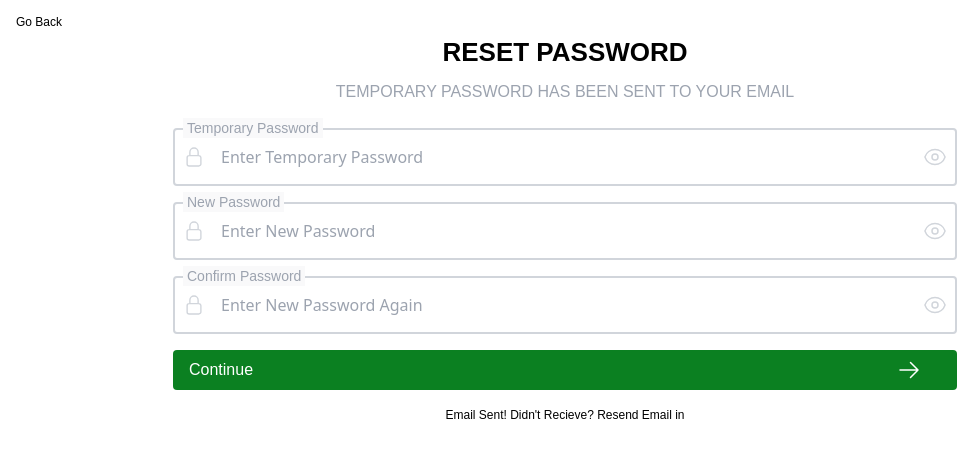
Test: ResetPassword Component › shows error for weak new password
Type "TempPass123!" into the password field with placeholder "Enter Temporary Password" at (564, 157), box x1=213 y1=138 x2=915 y2=176
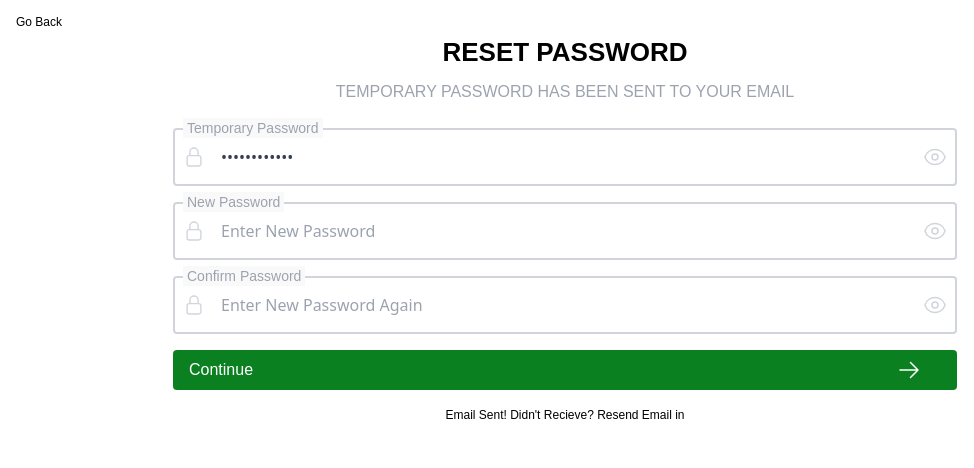
Type "weak" into the password field with placeholder "Enter New Password" at (564, 231), box x1=213 y1=212 x2=915 y2=250
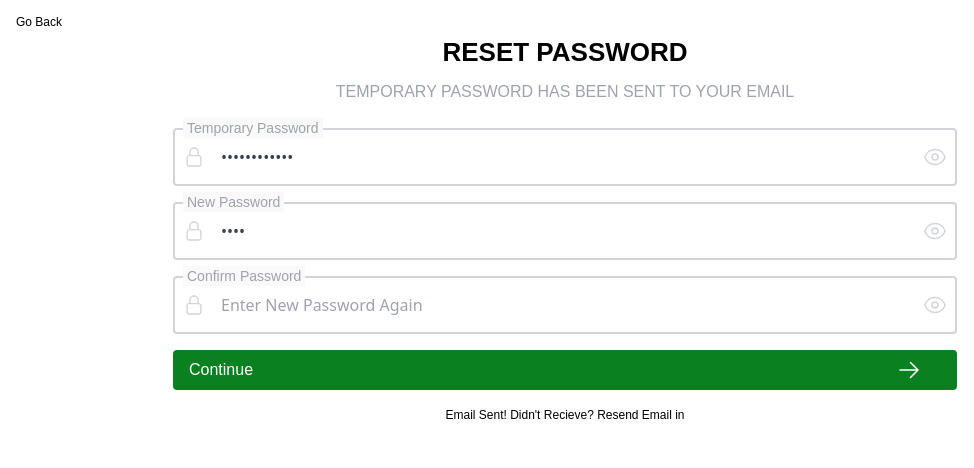
Type "weak" into the password field with placeholder "Enter New Password Again" at (564, 305), box x1=213 y1=286 x2=915 y2=324
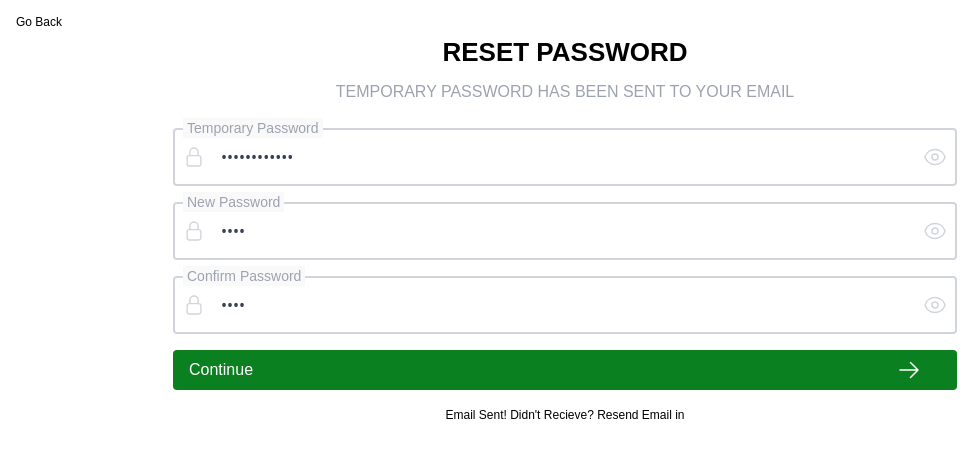
Click the button "Continue" at (221, 370), box x1=173 y1=350 x2=957 y2=390
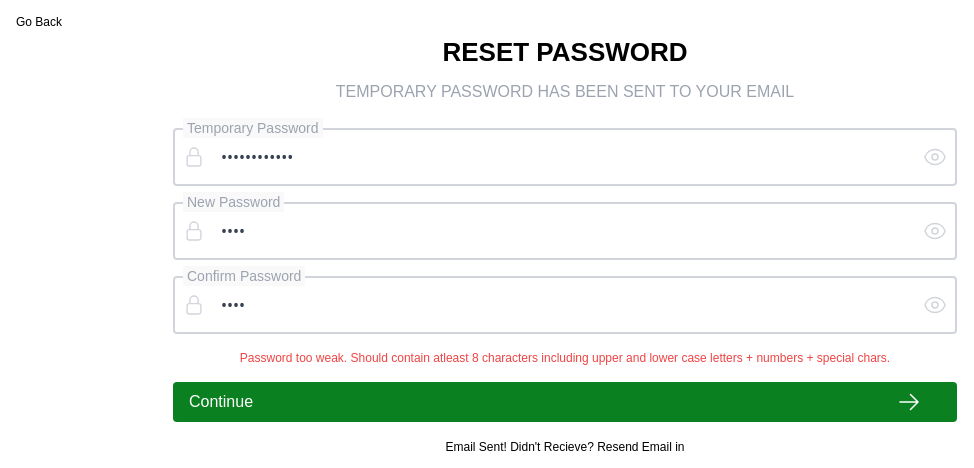
Check: the text "Password too weak. Should contain atleast 8 characters including upper and lower case letters + numbers + special chars." is shown, box x1=240 y1=351 x2=890 y2=365
